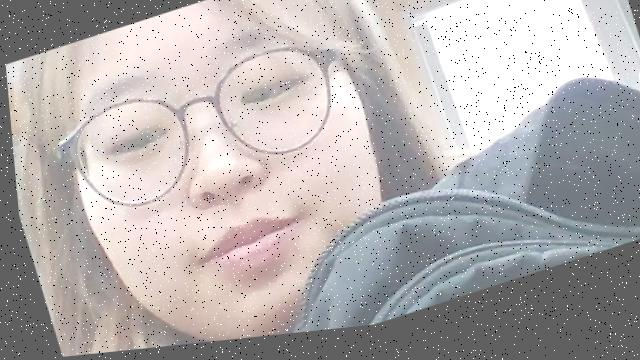eye: (236, 84, 271, 118), (119, 128, 151, 158)
iris: (238, 80, 302, 114), (104, 127, 167, 160)
